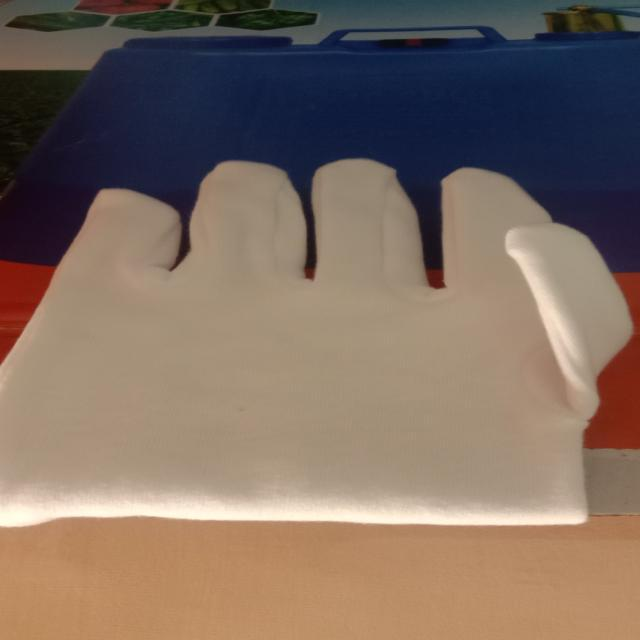gloved_hand: (0, 156, 636, 532)
